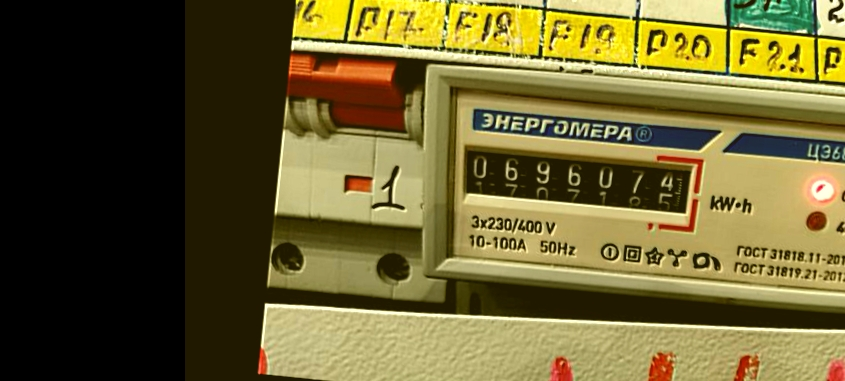0: (470, 153, 492, 180), (597, 163, 616, 190)
4: (659, 168, 677, 192)
5: (657, 191, 675, 212)
6: (565, 159, 586, 188), (502, 155, 523, 182)
7: (629, 167, 647, 194)
9: (534, 157, 553, 185)
screen: (449, 131, 709, 236)
